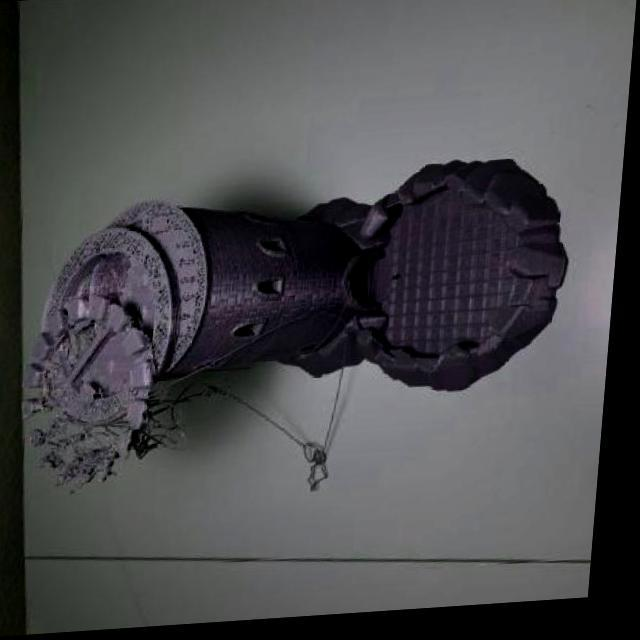spaghetti: (27, 378, 240, 491), (183, 314, 355, 381), (48, 319, 109, 384), (110, 250, 138, 296)
